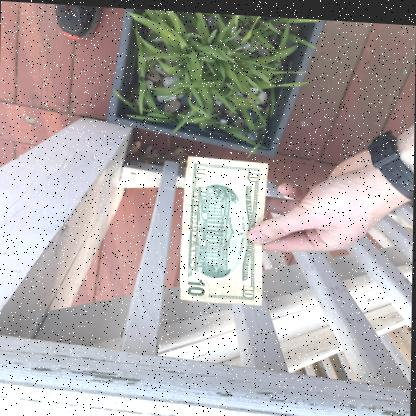ten-back: (179, 152, 265, 302)
